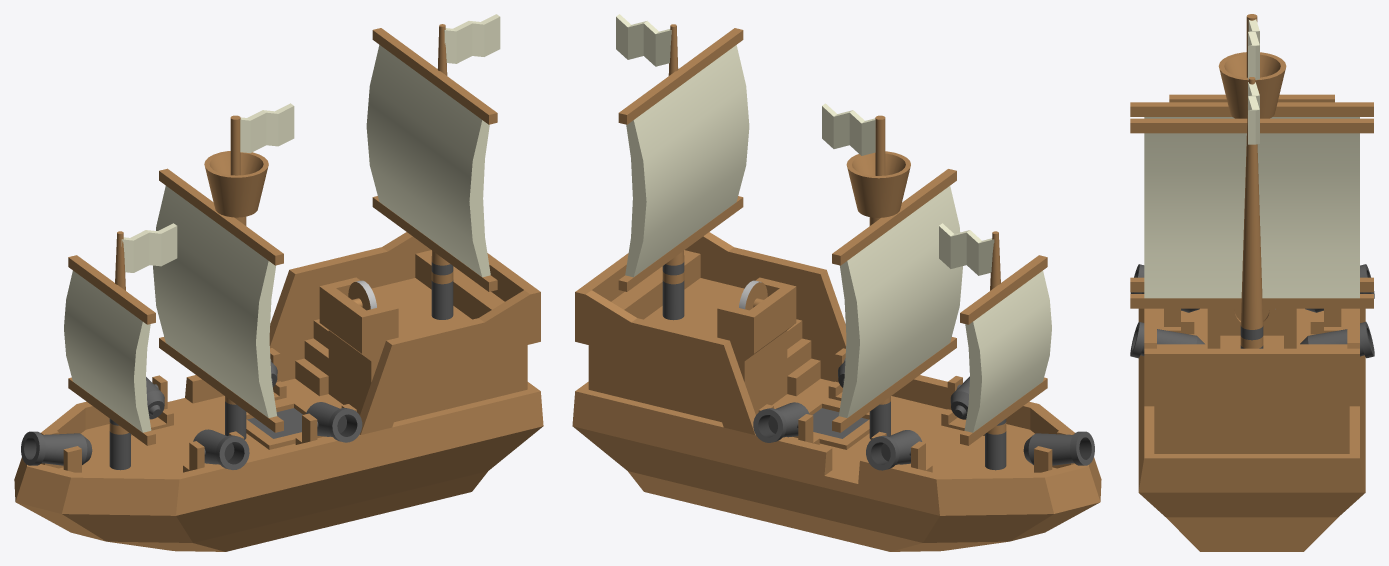
File: PirateShip.glb
3 views of the same model, side by side, from view 1: azimuth 30°, elevation 25°; view 2: azimuth 150°, elevation 25°; view 3: azimuth 270°, elevation 25° (orthographic). The views are drawn at different scales.
Parts seen in each view (by area): view 1: watercraftPack_007; view 2: watercraftPack_007; view 3: watercraftPack_007.
Part boxes in pixels (box(x1,y1,x2,y2)): watercraftPack_007: box(14, 14, 543, 551); watercraftPack_007: box(572, 14, 1101, 551); watercraftPack_007: box(1130, 14, 1374, 551).
Bounding box in the file's own units: 9 × 8.01 × 3.77.
